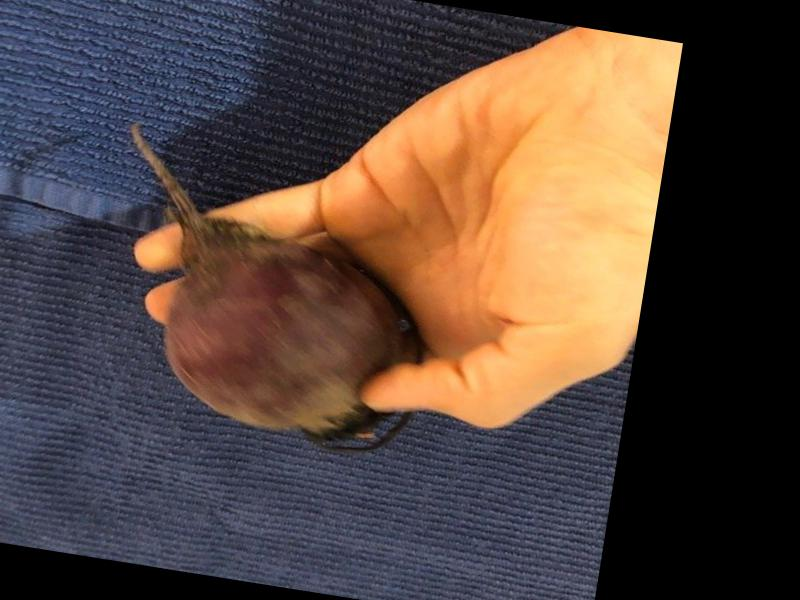Beet: (83, 121, 450, 462)
